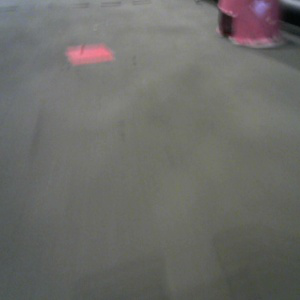right: (215, 1, 285, 48)
